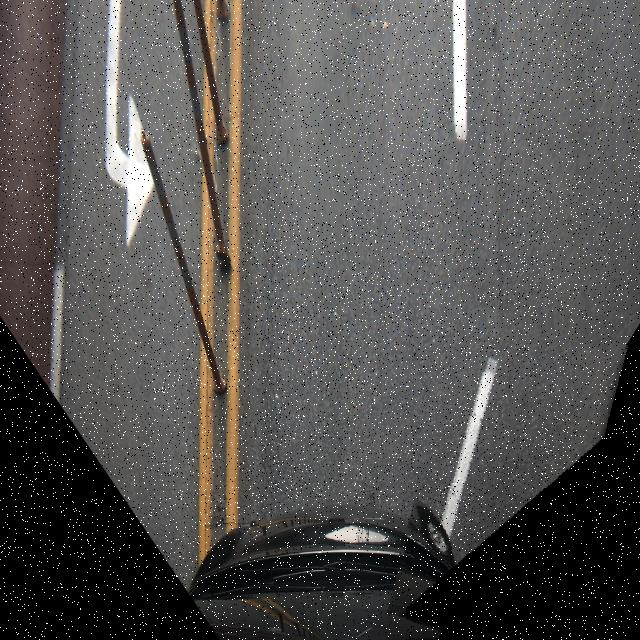left: (406, 311, 609, 640)
